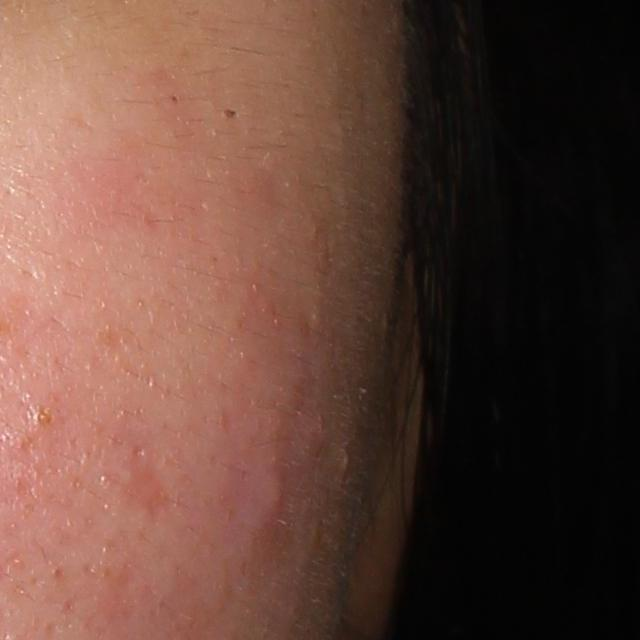atrophic_scar: (117, 419, 168, 517)
comedo: (28, 402, 61, 430)
nevus: (222, 106, 243, 119)
papule: (255, 472, 293, 528)
